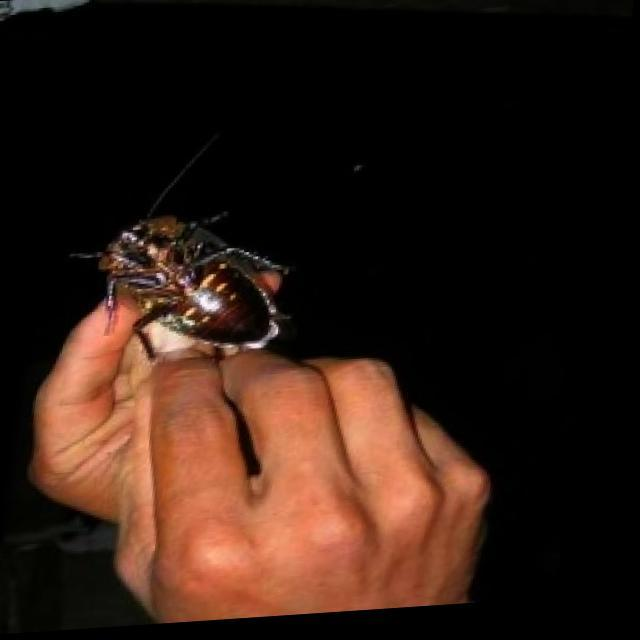cockroach: (88, 194, 300, 366)
